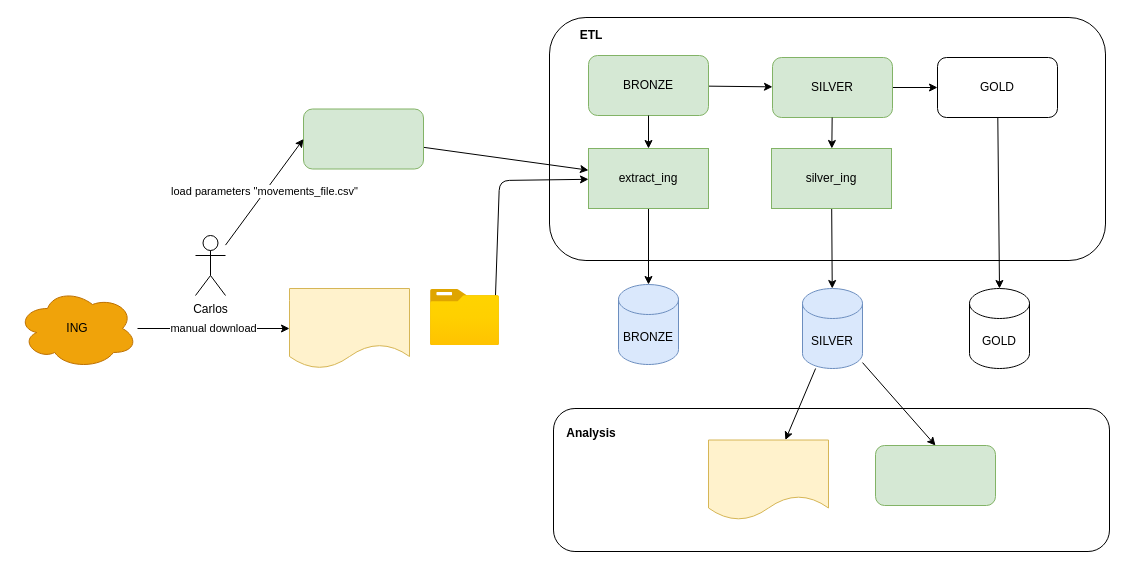
This 1127x569 diagram has some shape labels left out. The shapes that lost their labels are listed below. From the top down, each one's centre as x and y in pixels, then its label:
At pixel 363 138: "main.py".
At pixel 349 328: "movements_file.csv".
At pixel 464 317: "./data".
At pixel 768 479: "Analysis.ipnb".
At pixel 935 475: "Metabase".
